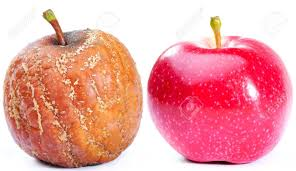apple: (146, 38, 287, 161)
damaged_apple: (3, 27, 143, 165)
